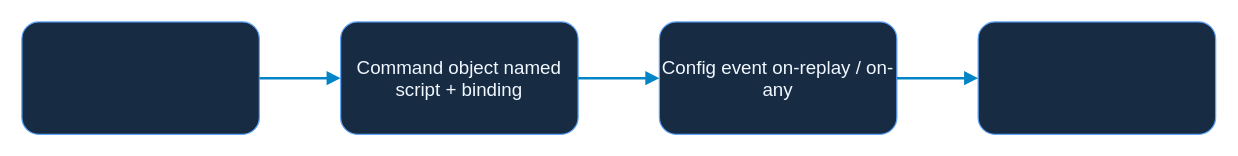
The diagram is 1238 pixels wide and 156 high, and some of its shapes have lost their labels. Here are the shapes that lost their labels. From the top down, the centre of each, then its label:
point (140, 77): FortiGate switch controller
point (1096, 77): FortiSwitch command pushed last
